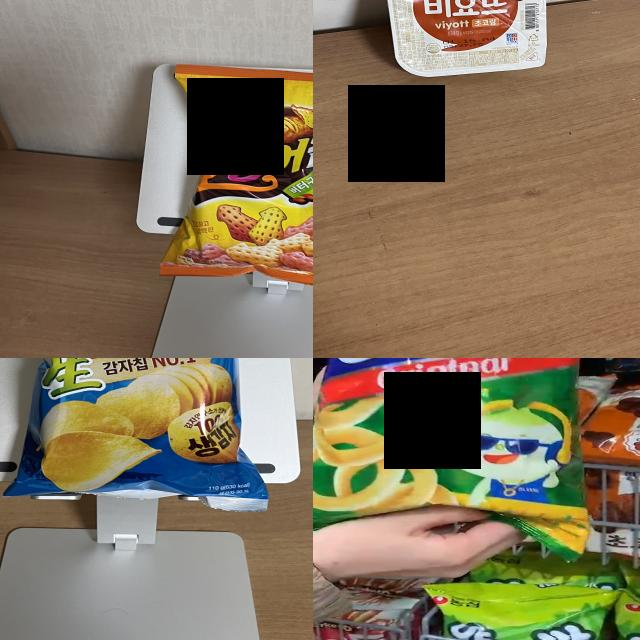bYott: (390, 0, 538, 68)
onionRing: (316, 358, 579, 536)
ozingZip: (183, 63, 313, 278)
pokaChip: (29, 358, 249, 494)
